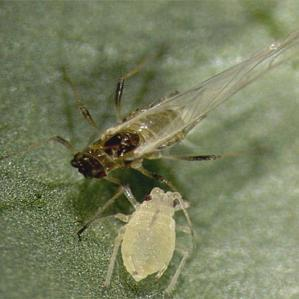Green peach aphid: (41, 51, 241, 194), (101, 176, 211, 294)
